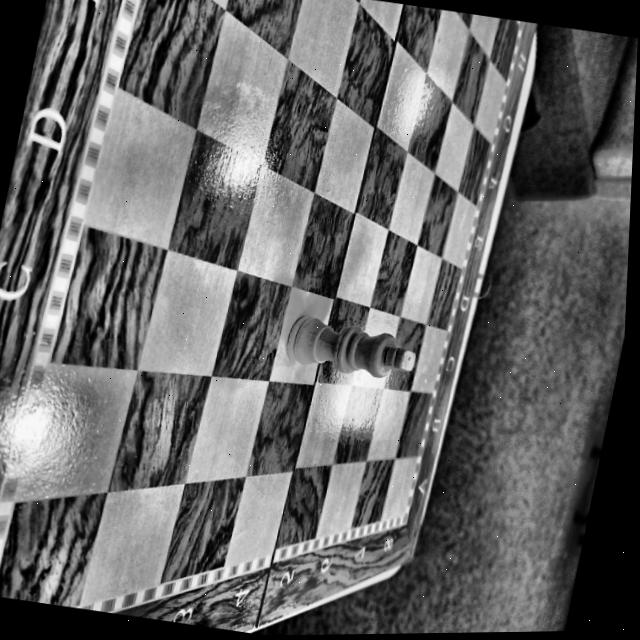white-king: (287, 314, 416, 376)
